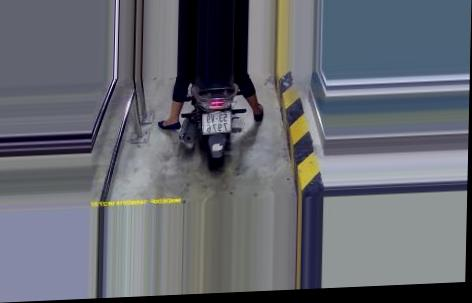License_Plate: (203, 107, 234, 140)
